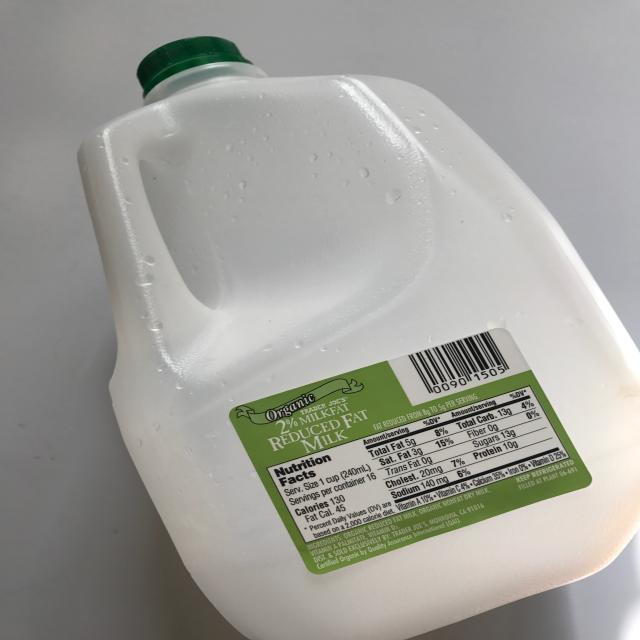plastic: (76, 39, 638, 638)
